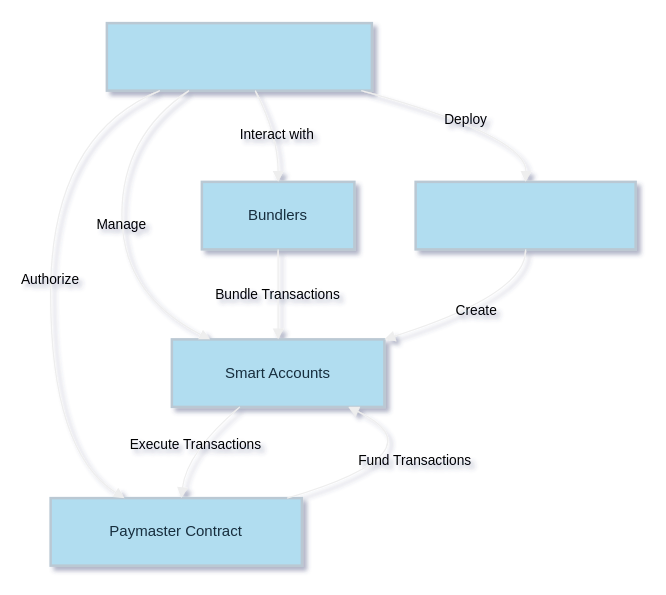
Some shapes in this 666 by 595 pixel diagram are drawn without their labels. The shapes that lost their labels are listed below. From the top down, each one's centre as x and y in pixels, then its label:
At pixel 238 56: "Entry Point Contracts".
At pixel 525 215: "Account Factory".
